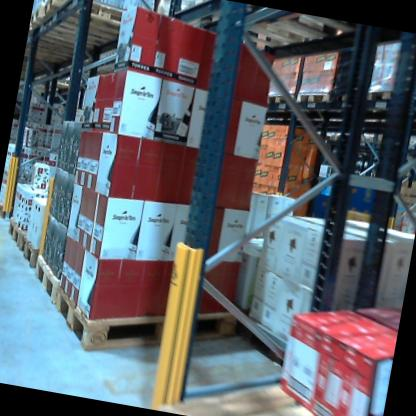pallet: (45, 248, 272, 390), (144, 338, 387, 416), (196, 0, 353, 69), (29, 0, 134, 54), (37, 0, 141, 54), (337, 76, 416, 122), (28, 245, 64, 308), (13, 231, 48, 272), (295, 85, 339, 115), (3, 215, 35, 255), (263, 88, 298, 109), (0, 199, 24, 223)
